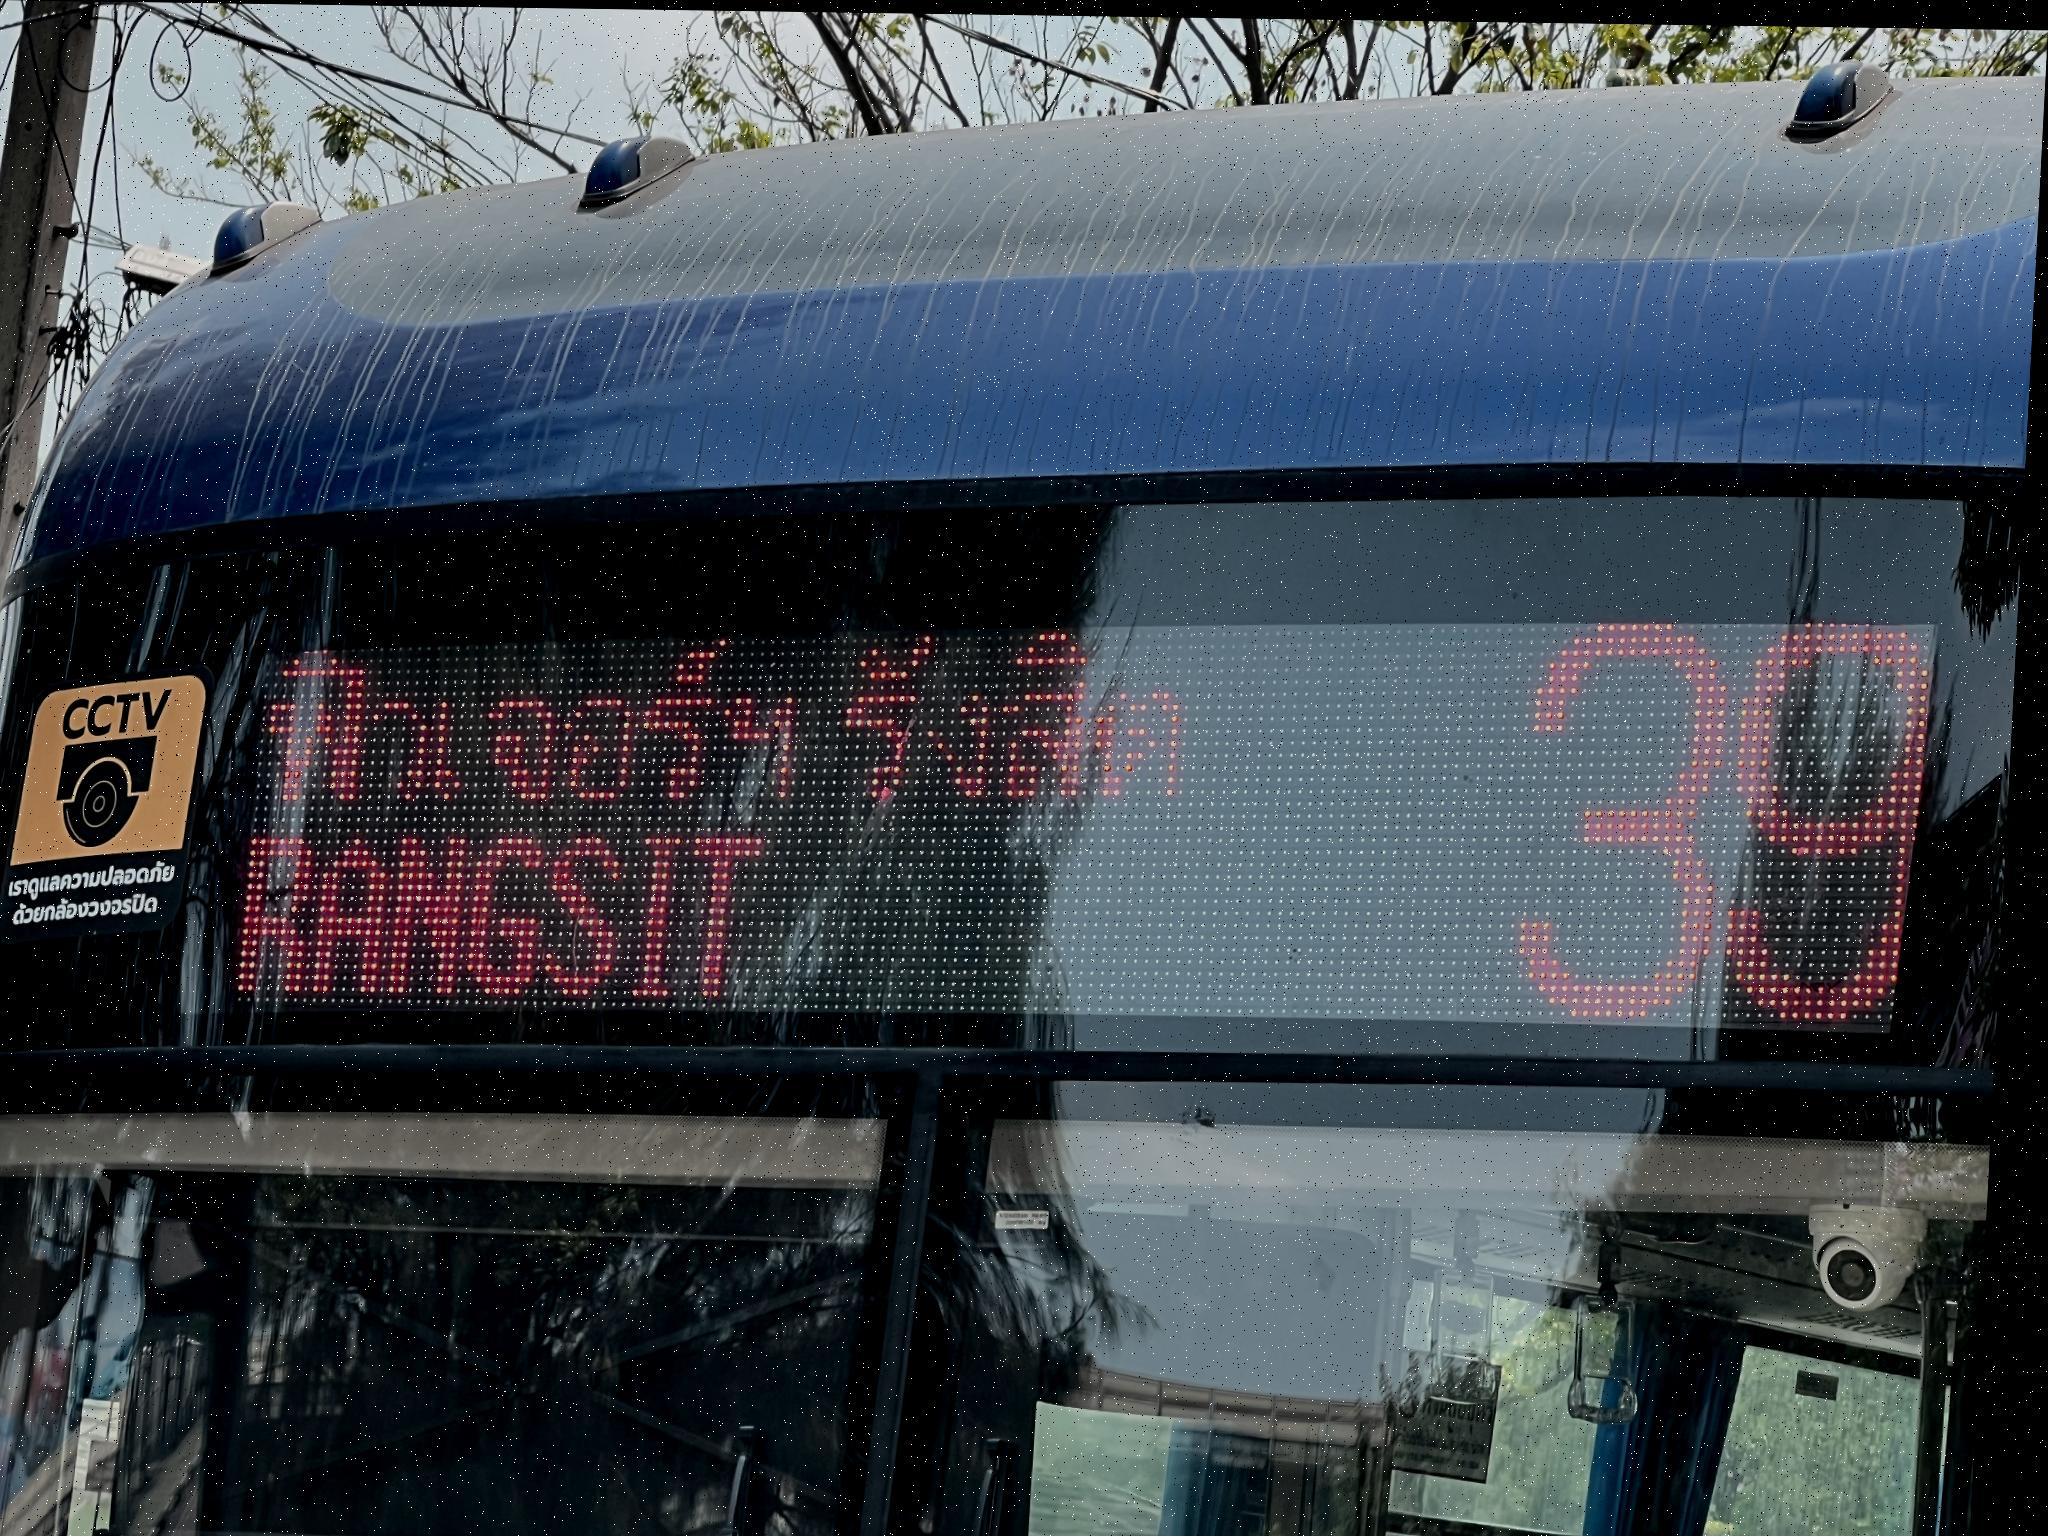Bus Line Number: (1493, 542, 1983, 1099)
Destination Sign: (216, 574, 1324, 1037)
TSB-Bus: (0, 58, 2046, 1536)
